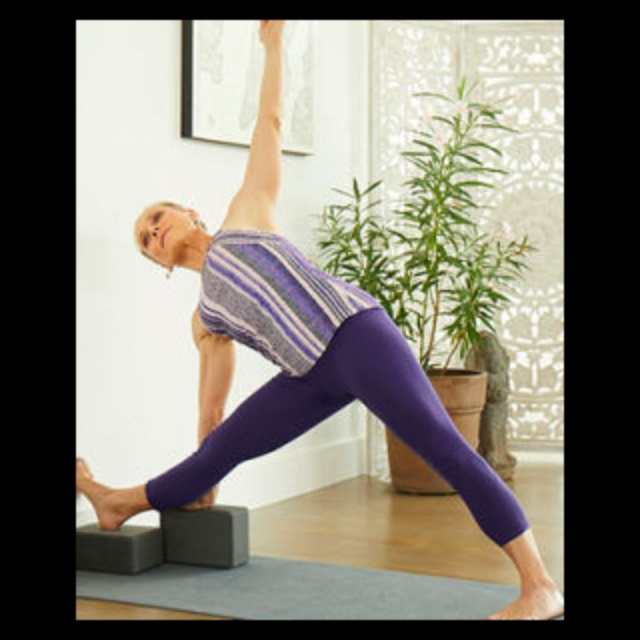Triangle_Pose: (80, 22, 564, 620)
